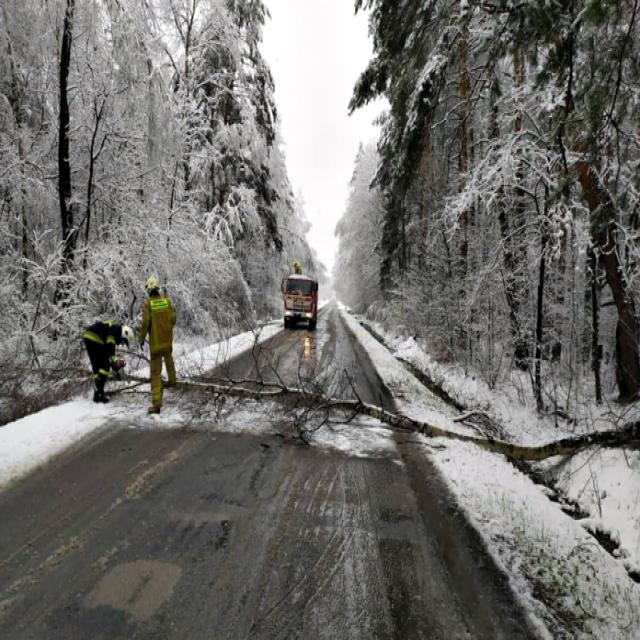fallen_tree: (184, 380, 534, 464)
